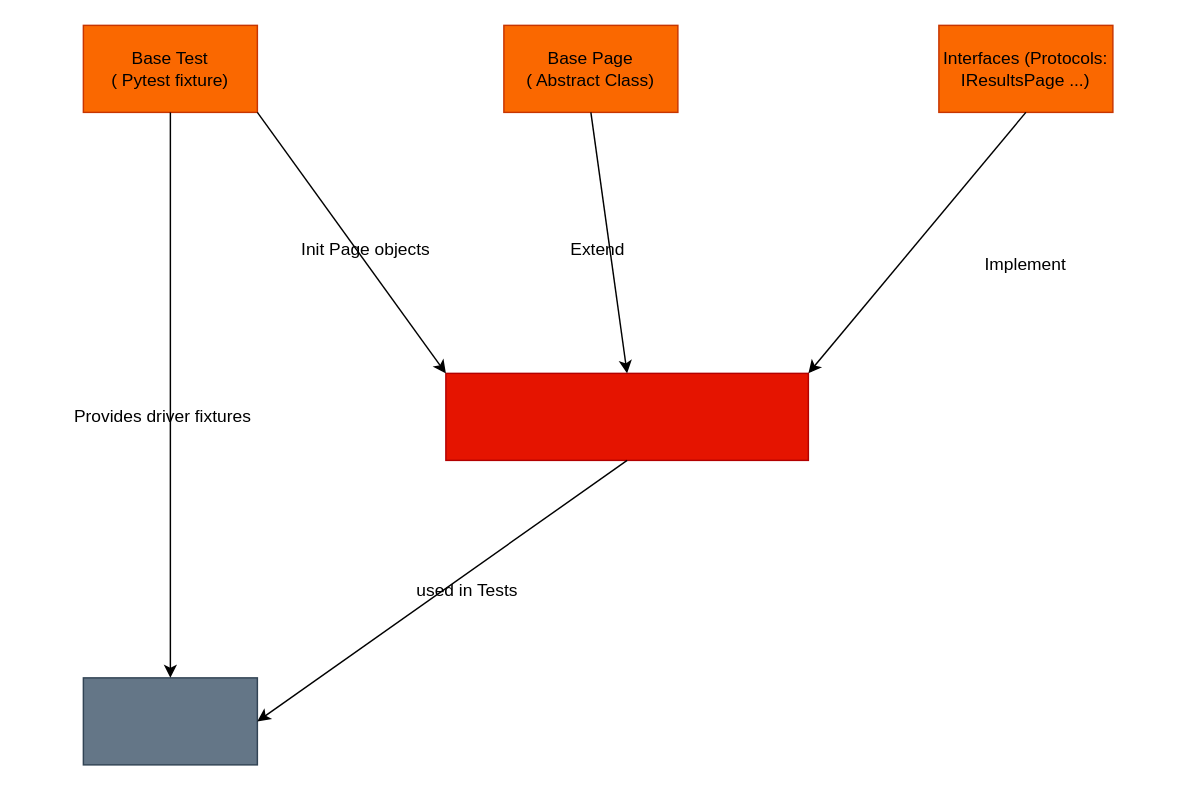
The diagram is 1188 pixels wide and 790 high, and some of its shapes have lost their labels. Here are the shapes that lost their labels. From the top down, the centre of each, then its label:
At point (626, 416): "Page Objects ( Results Page , Login page ...)".
At point (169, 720): "Test classes ( Pytest assertions only )".
